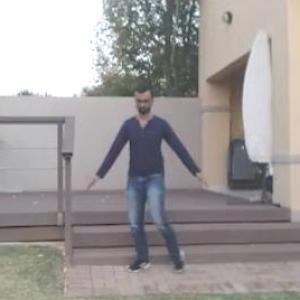land: (99, 87, 217, 282)
